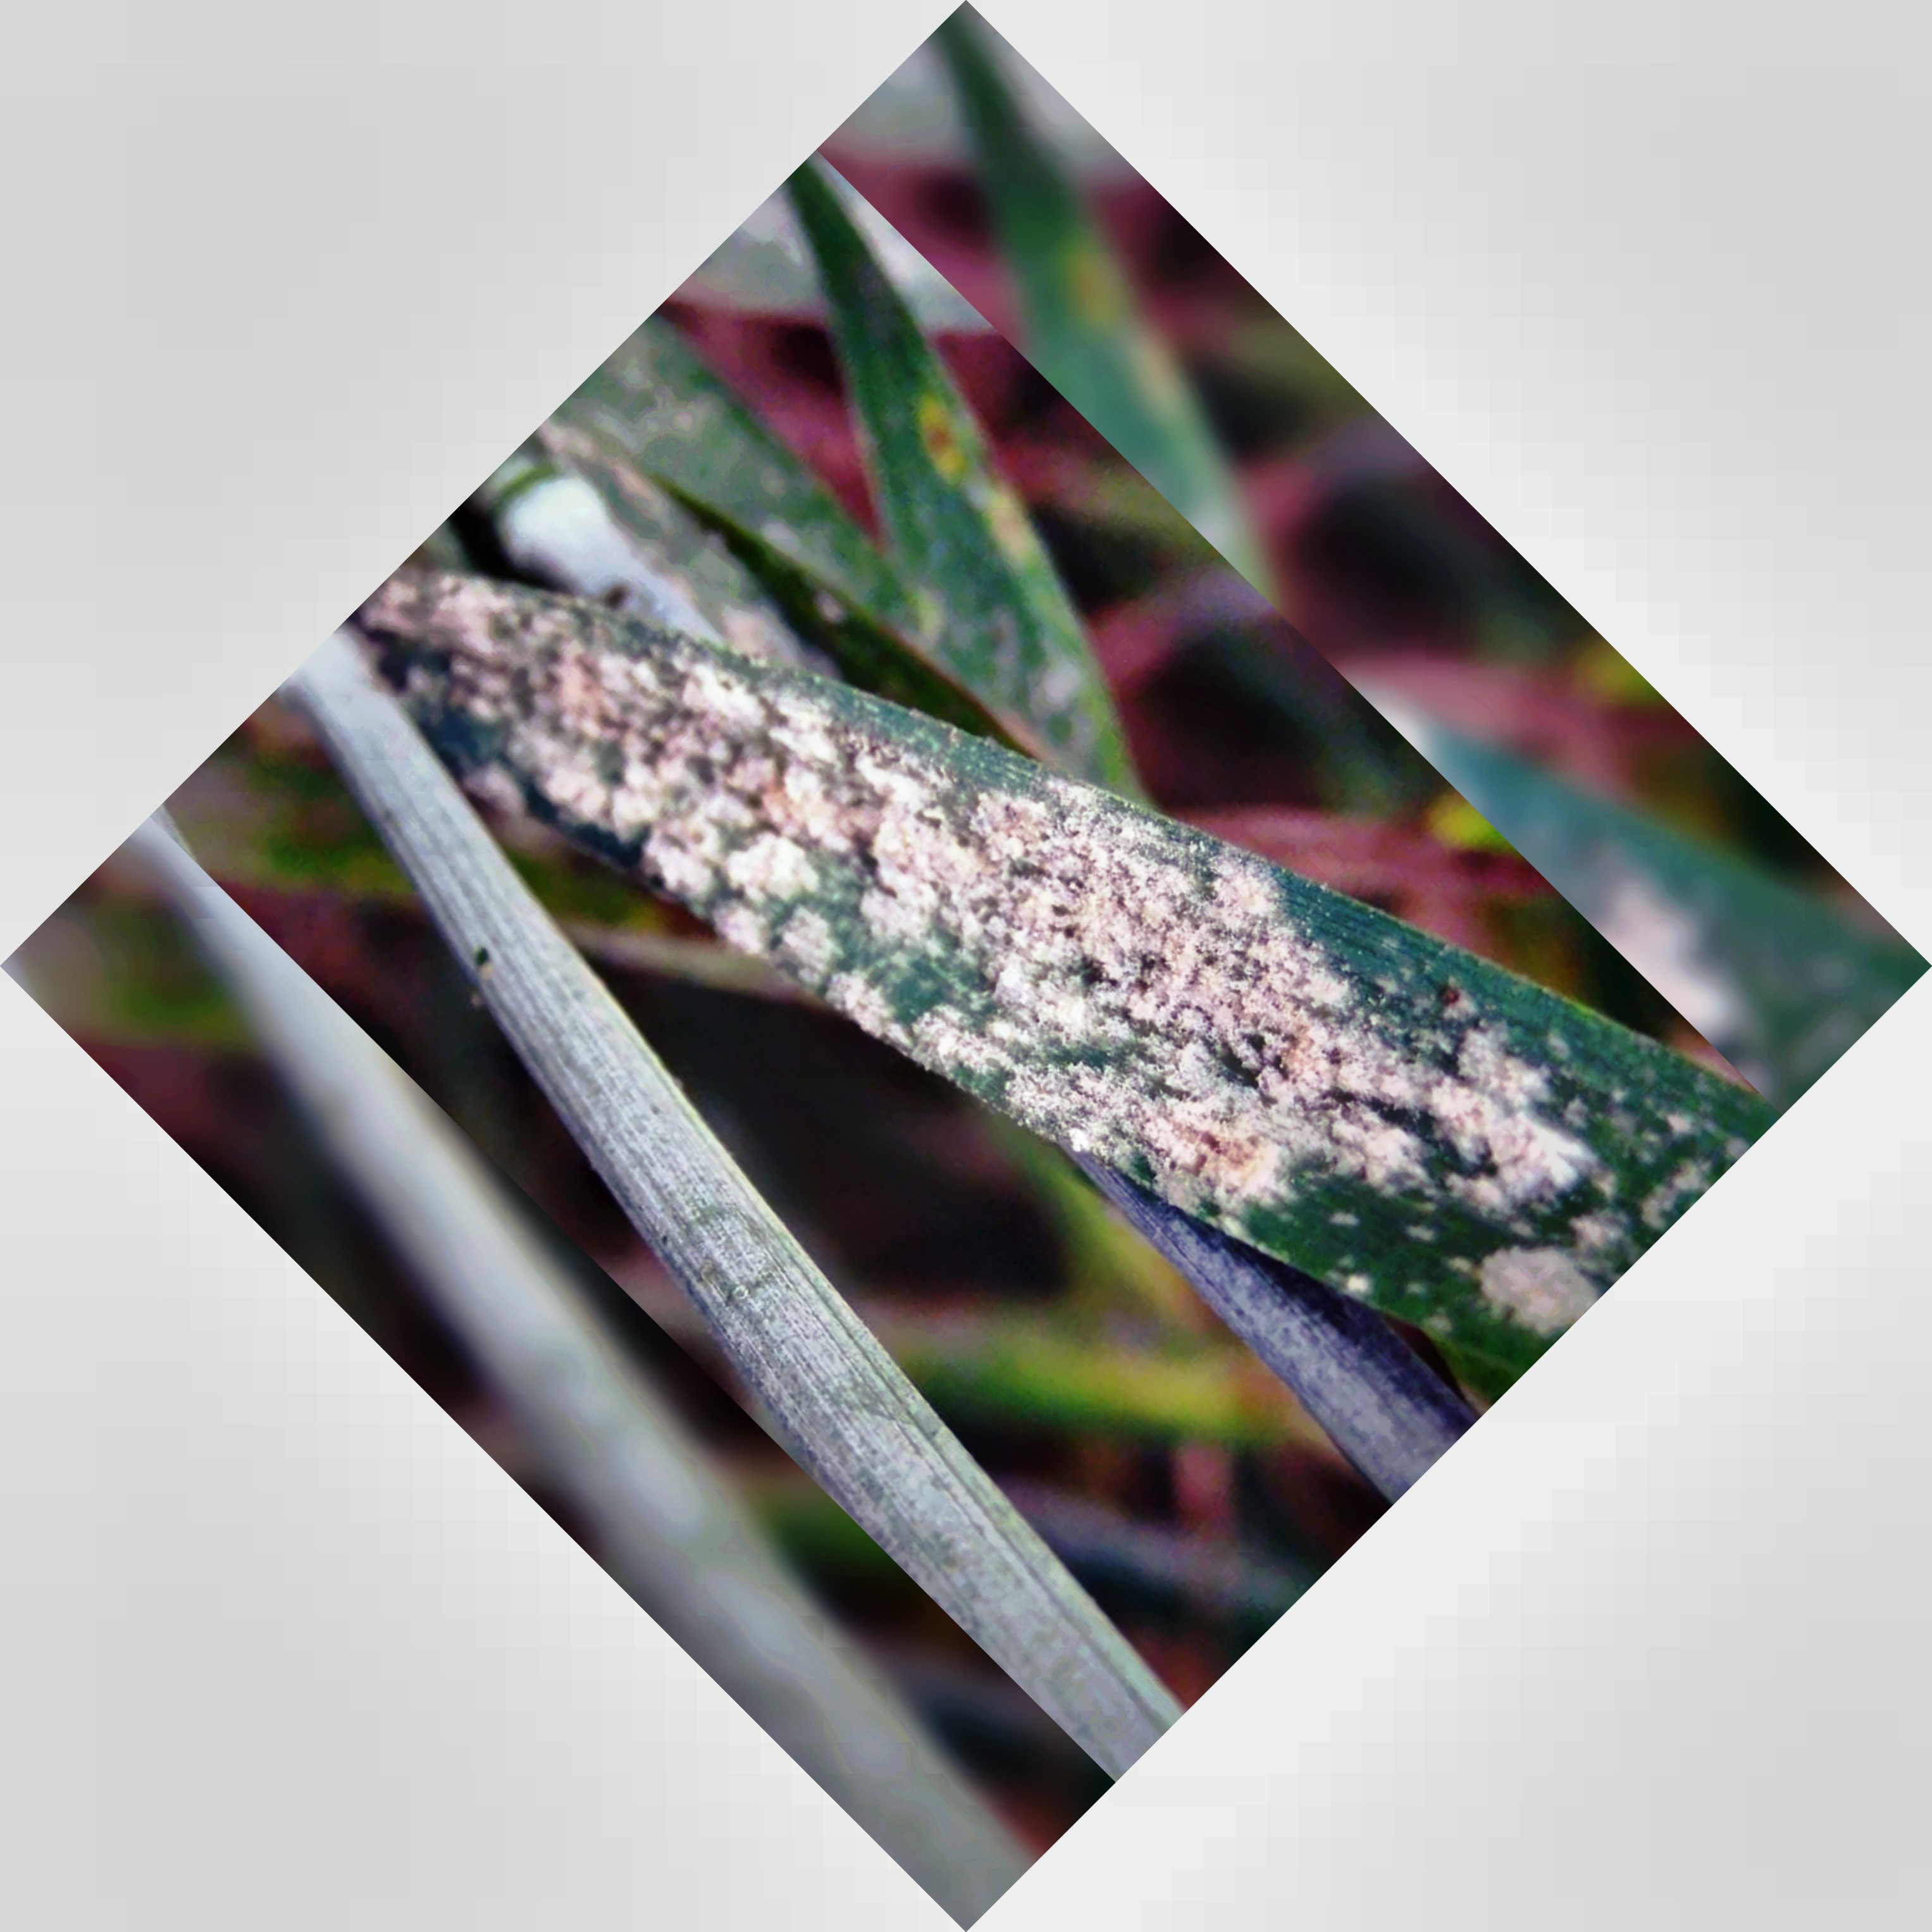Powdery Mildew: (557, 635, 1426, 1247)
